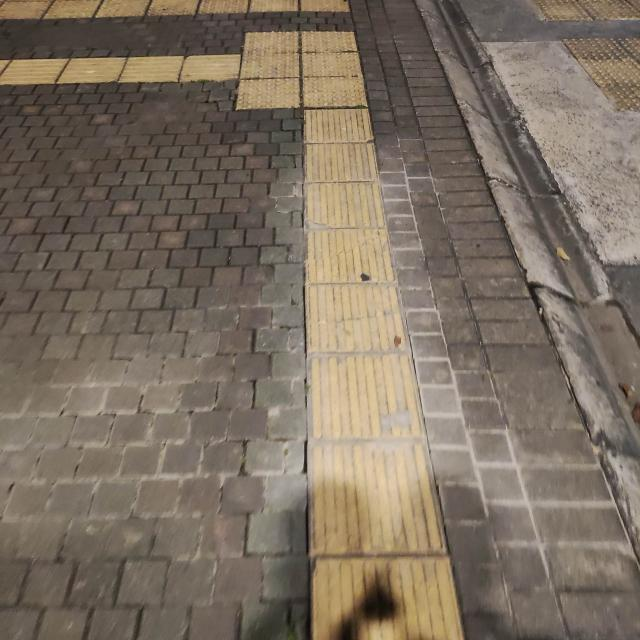kiri: (166, 32, 407, 173)
